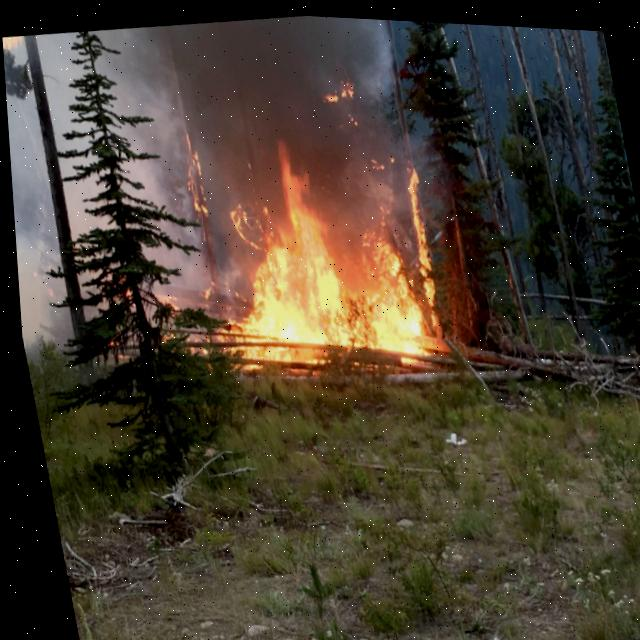fire: (242, 198, 429, 367)
smoke: (158, 12, 399, 216)
